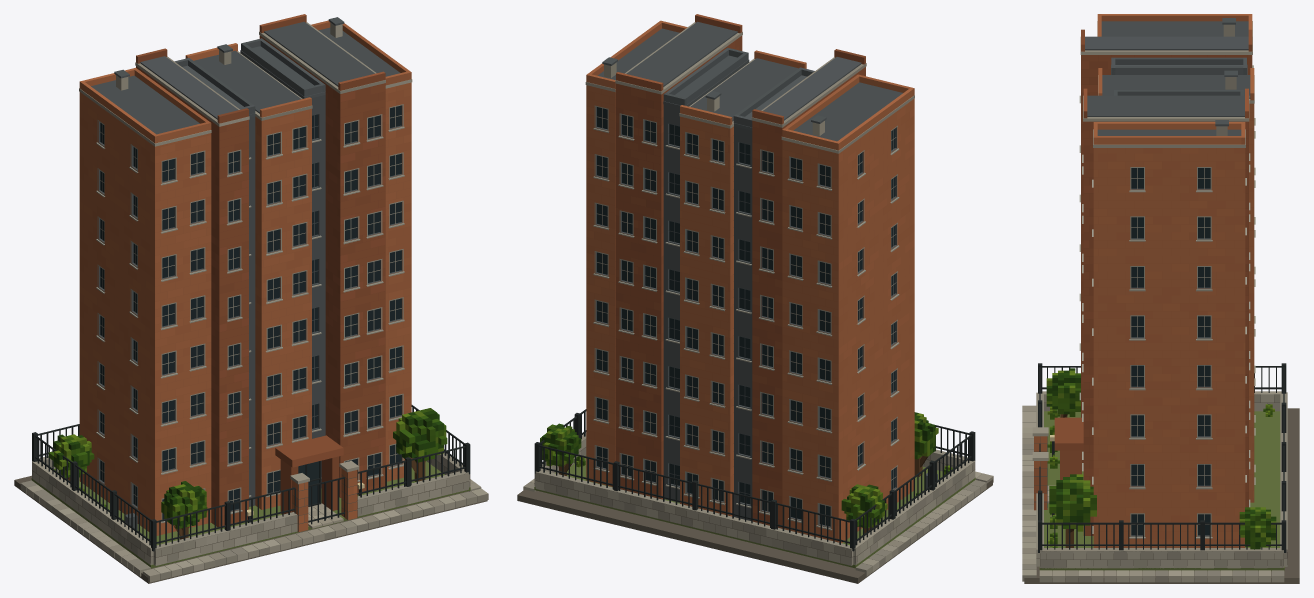
The model's file is SM_Mapa_080.fbx.
The picture shows the model from 3 angles, left to right: view 1: azimuth 30°, elevation 25°; view 2: azimuth 150°, elevation 25°; view 3: azimuth 270°, elevation 25°; orthographic projection. The views are drawn at different scales.
Visible parts, largest first — view 1: SM_Mapa_080; view 2: SM_Mapa_080; view 3: SM_Mapa_080.
Part boxes in pixels (x1=…): SM_Mapa_080: x1=14, y1=14, x2=488, y2=583; SM_Mapa_080: x1=517, y1=14, x2=993, y2=583; SM_Mapa_080: x1=1022, y1=14, x2=1299, y2=583.
Bounding box in the file's own units: 32 × 21.95 × 38.06.
